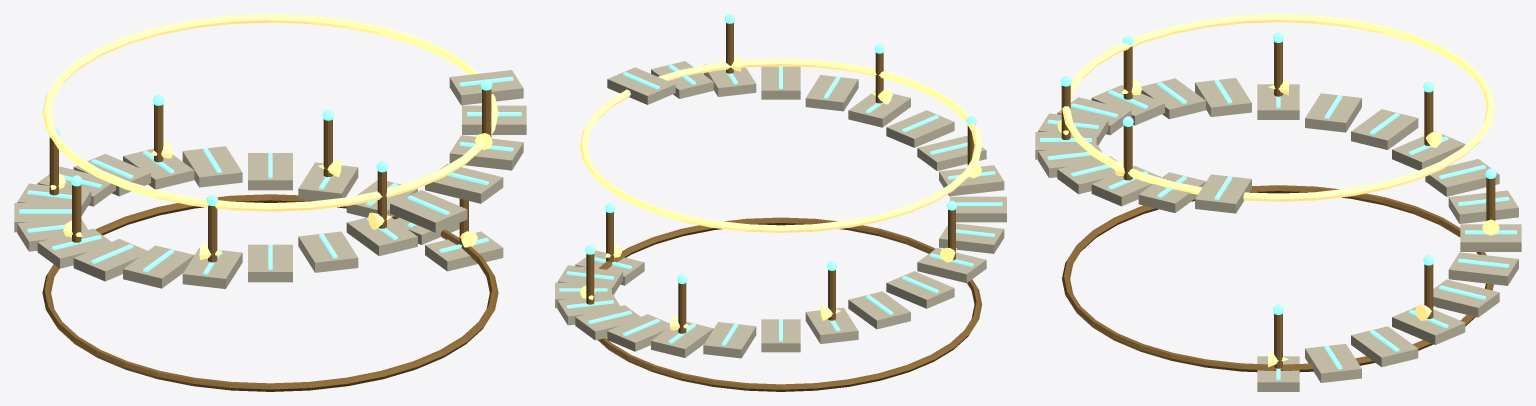
The model's file is 04_outer_arcades.glb.
3 renders of one model, left to right at view 1: azimuth 30°, elevation 25°; view 2: azimuth 150°, elevation 25°; view 3: azimuth 270°, elevation 25°, orthographic. The views are drawn at different scales.
Parts seen in each view (by area): view 1: arcade_upper_rail_nocol, arcade_lower_rail_nocol, arcade_step_19_nocol, arcade_step_14_nocol, arcade_step_17_nocol, arcade_step_5_nocol, arcade_step_16_nocol, arcade_step_20_nocol, arcade_step_18_nocol, arcade_step_13_nocol, arcade_step_23_nocol, arcade_step_4_nocol (+21 smaller); view 2: arcade_upper_rail_nocol, arcade_lower_rail_nocol, arcade_step_17_nocol, arcade_step_11_nocol, arcade_step_10_nocol, arcade_step_23_nocol, arcade_step_7_nocol, arcade_step_19_nocol, arcade_step_12_nocol, arcade_step_18_nocol, arcade_step_5_nocol, arcade_step_8_nocol (+16 smaller); view 3: arcade_upper_rail_nocol, arcade_lower_rail_nocol, arcade_step_5_nocol, arcade_step_2_nocol, arcade_step_10_nocol, arcade_step_4_nocol, arcade_step_11_nocol, arcade_step_1_nocol, arcade_step_23_nocol, arcade_step_3_nocol, arcade_step_13_nocol, arcade_step_8_nocol (+21 smaller).
Boxes of the visible parts, bbox=[...] form: arcade_upper_rail_nocol: bbox=[42, 14, 498, 211]; arcade_lower_rail_nocol: bbox=[42, 194, 498, 391]; arcade_step_19_nocol: bbox=[390, 190, 467, 232]; arcade_step_14_nocol: bbox=[123, 245, 194, 288]; arcade_step_17_nocol: bbox=[298, 231, 358, 272]; arcade_step_5_nocol: bbox=[182, 146, 242, 187]; arcade_step_16_nocol: bbox=[248, 244, 292, 282]; arcade_step_20_nocol: bbox=[425, 163, 503, 203]; arcade_step_18_nocol: bbox=[346, 214, 417, 256]; arcade_step_13_nocol: bbox=[73, 238, 147, 281]; arcade_step_23_nocol: bbox=[449, 70, 523, 105]; arcade_step_4_nocol: bbox=[248, 153, 292, 190]; arcade_upper_rail_nocol: bbox=[579, 58, 982, 232]; arcade_lower_rail_nocol: bbox=[598, 217, 982, 391]; arcade_step_17_nocol: bbox=[886, 110, 954, 147]; arcade_step_11_nocol: bbox=[886, 271, 954, 308]; arcade_step_10_nocol: bbox=[848, 291, 910, 329]; arcade_step_23_nocol: bbox=[607, 67, 675, 104]; arcade_step_7_nocol: bbox=[703, 322, 756, 358]; arcade_step_19_nocol: bbox=[805, 75, 858, 111]; arcade_step_12_nocol: bbox=[917, 248, 986, 283]; arcade_step_18_nocol: bbox=[848, 91, 910, 127]; arcade_step_5_nocol: bbox=[607, 314, 669, 351]; arcade_step_8_nocol: bbox=[761, 319, 800, 352]; arcade_upper_rail_nocol: bbox=[1062, 14, 1494, 201]; arcade_lower_rail_nocol: bbox=[1062, 185, 1493, 372]; arcade_step_5_nocol: bbox=[1448, 252, 1518, 285]; arcade_step_2_nocol: bbox=[1351, 326, 1418, 367]; arcade_step_10_nocol: bbox=[1351, 109, 1418, 149]; arcade_step_4_nocol: bbox=[1433, 279, 1499, 317]; arcade_step_11_nocol: bbox=[1305, 93, 1361, 132]; arcade_step_1_nocol: bbox=[1305, 344, 1361, 382]; arcade_step_23_nocol: bbox=[1195, 174, 1251, 213]; arcade_step_3_nocol: bbox=[1392, 304, 1465, 344]; arcade_step_13_nocol: bbox=[1195, 78, 1251, 116]; arcade_step_8_nocol: bbox=[1425, 159, 1499, 196].
Bounding box in the file's own units: 41.2 × 22.05 × 41.2.
